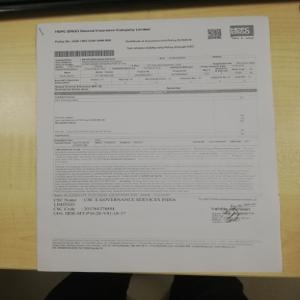image: (228, 23, 256, 37)
table: (51, 89, 260, 146), (54, 56, 259, 89)
text: (53, 148, 259, 189), (52, 192, 178, 219)
